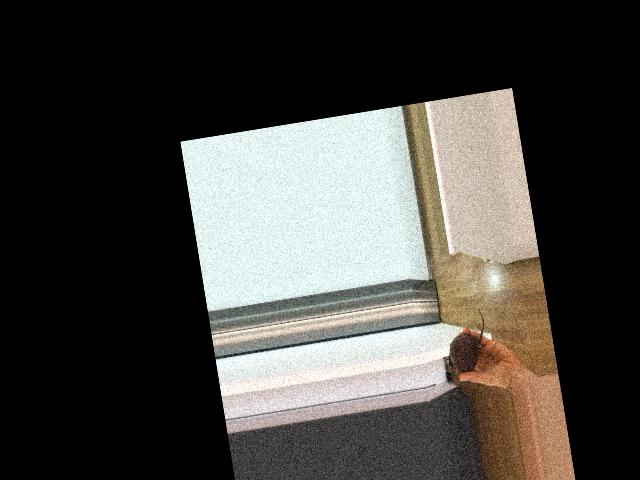beet: (441, 308, 491, 374)
